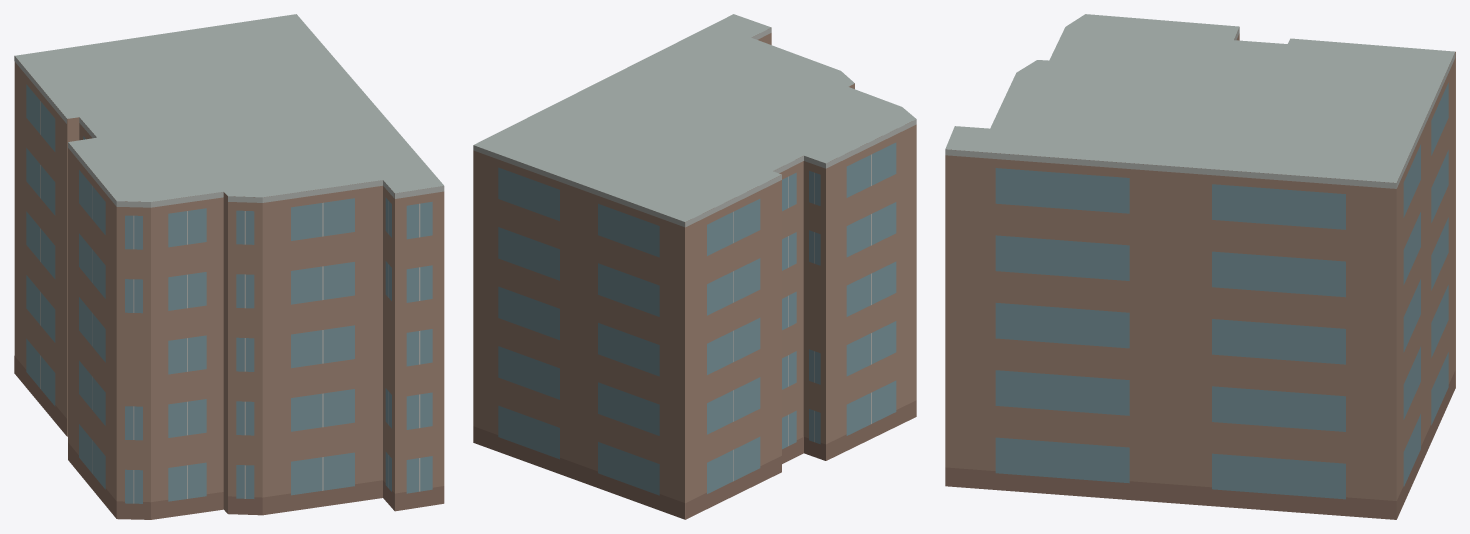
The model's file is survey-upis-33013586.glb.
3 renders of one model, left to right at view 1: azimuth 30°, elevation 25°; view 2: azimuth 150°, elevation 25°; view 3: azimuth 270°, elevation 25°, orthographic. The views are drawn at different scales.
Visible parts, largest first — view 1: survey-upis-33013586.tmp; view 2: survey-upis-33013586.tmp; view 3: survey-upis-33013586.tmp.
Boxes of the visible parts, box(x1,y1,x2,y2) form: survey-upis-33013586.tmp: box(14, 14, 444, 519); survey-upis-33013586.tmp: box(473, 14, 916, 519); survey-upis-33013586.tmp: box(945, 14, 1455, 519).
Size of the model in its own units: 14.8 by 13.75 by 18.9.
